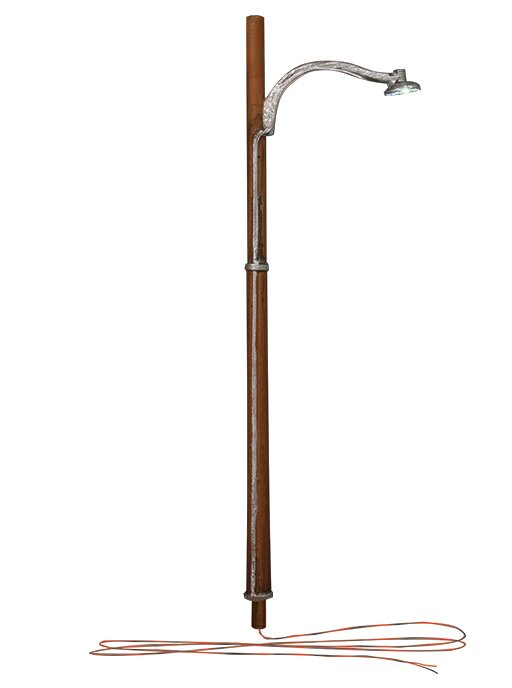light_pole: (233, 13, 298, 640)
